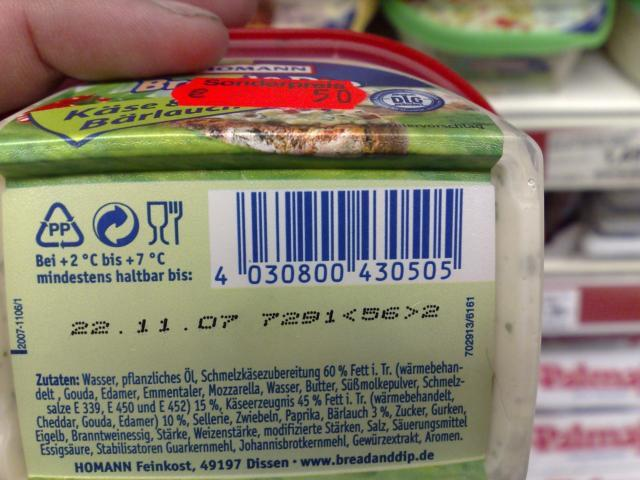Barcode: (207, 183, 494, 289)
